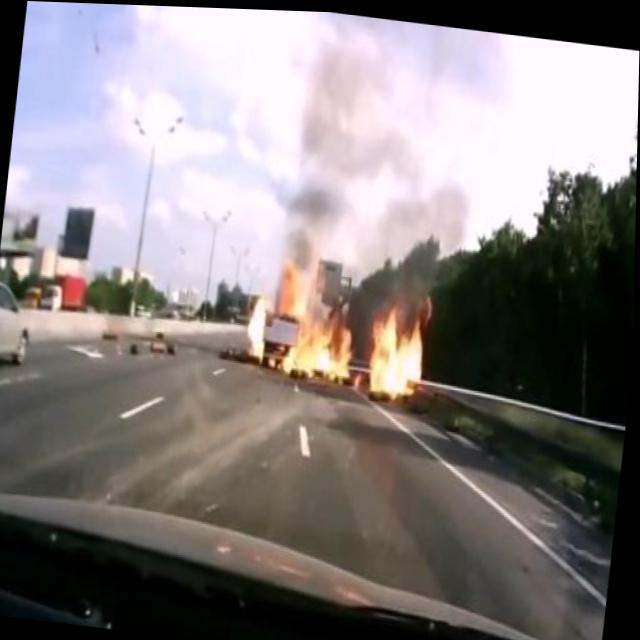fire: (274, 247, 441, 400), (242, 281, 274, 360)
